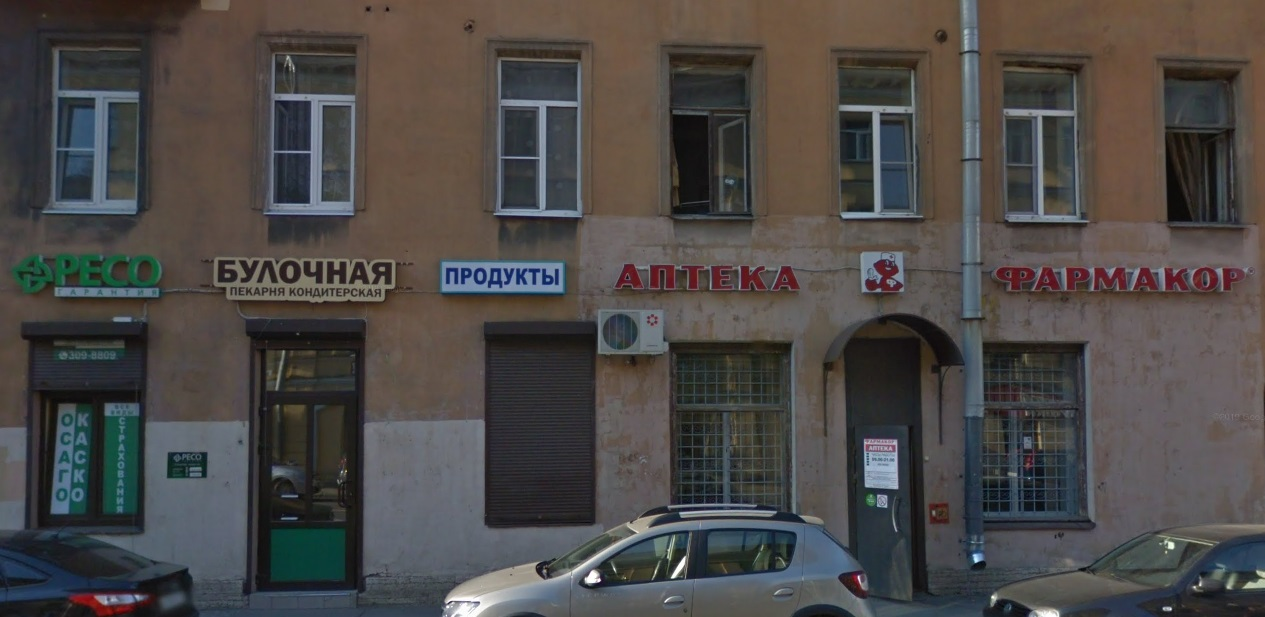door: (257, 393, 358, 592), (847, 428, 924, 599)
signboard: (212, 253, 399, 308), (994, 258, 1239, 298), (11, 248, 170, 299), (610, 258, 805, 299), (439, 257, 571, 297), (854, 246, 909, 294)
window: (978, 349, 1084, 523), (46, 44, 141, 213), (268, 51, 361, 213), (666, 56, 753, 216), (1004, 66, 1089, 227), (42, 389, 138, 528), (495, 61, 579, 216), (1167, 68, 1244, 231), (839, 66, 918, 219)
